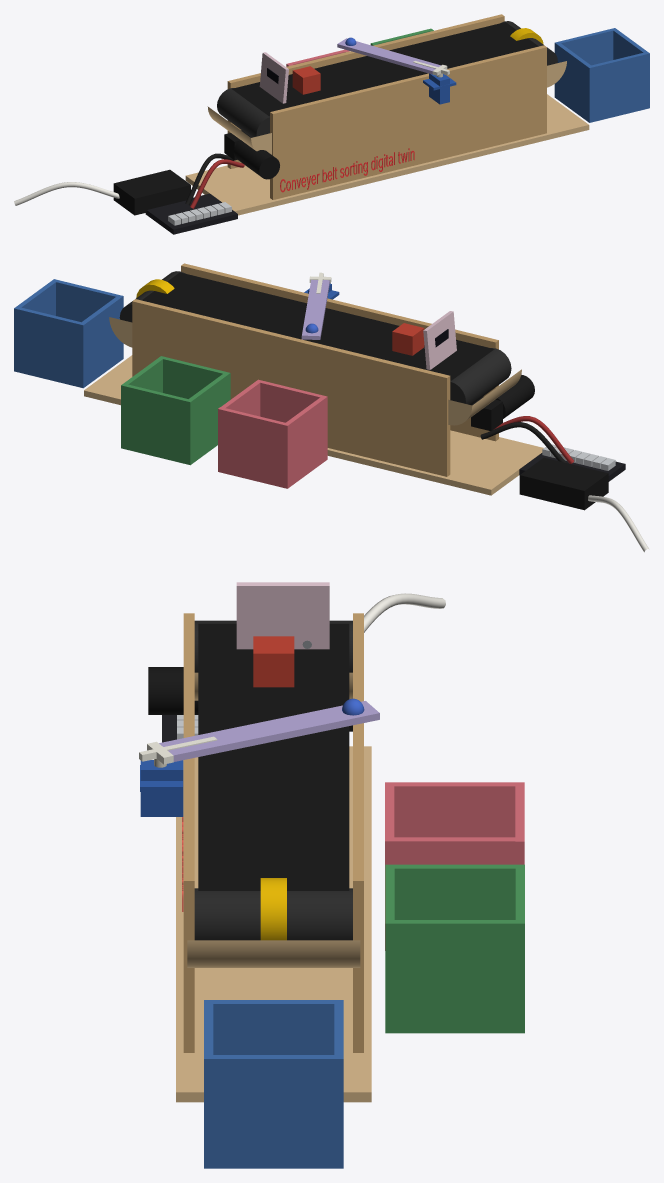
File: AuxScene.glb
The picture shows the model from 3 angles, top to bottom: view 1: azimuth 30°, elevation 25°; view 2: azimuth 150°, elevation 25°; view 3: azimuth 270°, elevation 25°; orthographic projection. The views are drawn at different scales.
Parts seen in each view (by area): view 1: side_rail_right, belt_top_run, base_plank, bin_blue_end_wall_back, battery_pack, side_rail_left, bin_blue_end_wall_left, roller_motor_end, control_board_pcb, bin_blue_end_wall_front, sorter_paddle_arm, motor_body (+11 smaller); view 2: side_rail_left, belt_top_run, base_plank, bin_blue_end_wall_front, bin_green_right_wall_front, bin_red_left_wall_front, battery_pack, side_rail_right, bin_red_left_wall_left, bin_blue_end_wall_left, bin_green_right_wall_left, roller_motor_end (+20 smaller); view 3: belt_top_run, bin_blue_end_wall_right, bin_green_right_wall_right, base_plank, bin_green_right_wall_left, bin_red_left_wall_left, bin_blue_end_wall_left, roller_idler_end, sensor_mount_panel, end_guard_idler_side, side_rail_right, side_rail_left (+13 smaller).
Part boxes in pixels (left/top/right/bottom): side_rail_right: left=270, top=45, right=546, bottom=199; belt_top_run: left=232, top=22, right=538, bottom=116; base_plank: left=185, top=94, right=589, bottom=215; bin_blue_end_wall_back: left=587, top=53, right=649, bottom=122; battery_pack: left=113, top=169, right=190, bottom=215; side_rail_left: left=227, top=14, right=504, bottom=168; bin_blue_end_wall_left: left=554, top=41, right=593, bottom=122; roller_motor_end: left=217, top=88, right=269, bottom=137; control_board_pcb: left=145, top=193, right=237, bottom=234; bin_blue_end_wall_front: left=556, top=28, right=616, bottom=65; sorter_paddle_arm: left=337, top=38, right=440, bottom=74; motor_body: left=233, top=140, right=279, bottom=179; side_rail_left: left=132, top=299, right=450, bottom=476; belt_top_run: left=141, top=272, right=494, bottom=380; base_plank: left=84, top=355, right=543, bottom=495; bin_blue_end_wall_front: left=14, top=307, right=85, bottom=387; bin_green_right_wall_front: left=122, top=384, right=192, bottom=464; bin_red_left_wall_front: left=218, top=407, right=287, bottom=482; battery_pack: left=519, top=457, right=608, bottom=510; side_rail_right: left=181, top=263, right=498, bottom=441; bin_red_left_wall_left: left=283, top=395, right=326, bottom=488; bin_blue_end_wall_left: left=78, top=295, right=123, bottom=387; bin_green_right_wall_left: left=186, top=372, right=230, bottom=463; roller_motor_end: left=450, top=348, right=511, bottom=404; belt_top_run: left=198, top=623, right=349, bottom=890; bin_blue_end_wall_right: left=204, top=1055, right=343, bottom=1168; bin_green_right_wall_right: left=385, top=920, right=524, bottom=1032; base_plank: left=176, top=746, right=371, bottom=1102; bin_green_right_wall_left: left=385, top=864, right=524, bottom=919; bin_red_left_wall_left: left=385, top=782, right=524, bottom=837; bin_blue_end_wall_left: left=204, top=1000, right=343, bottom=1054; roller_idler_end: left=194, top=888, right=352, bottom=940; sensor_mount_panel: left=236, top=582, right=329, bottom=649; end_guard_idler_side: left=187, top=940, right=360, bottom=967; side_rail_right: left=183, top=613, right=194, bottom=1052; side_rail_left: left=353, top=613, right=363, bottom=1052.
Bounding box in the file's own units: 0.7158 × 0.1424 × 0.2073.
